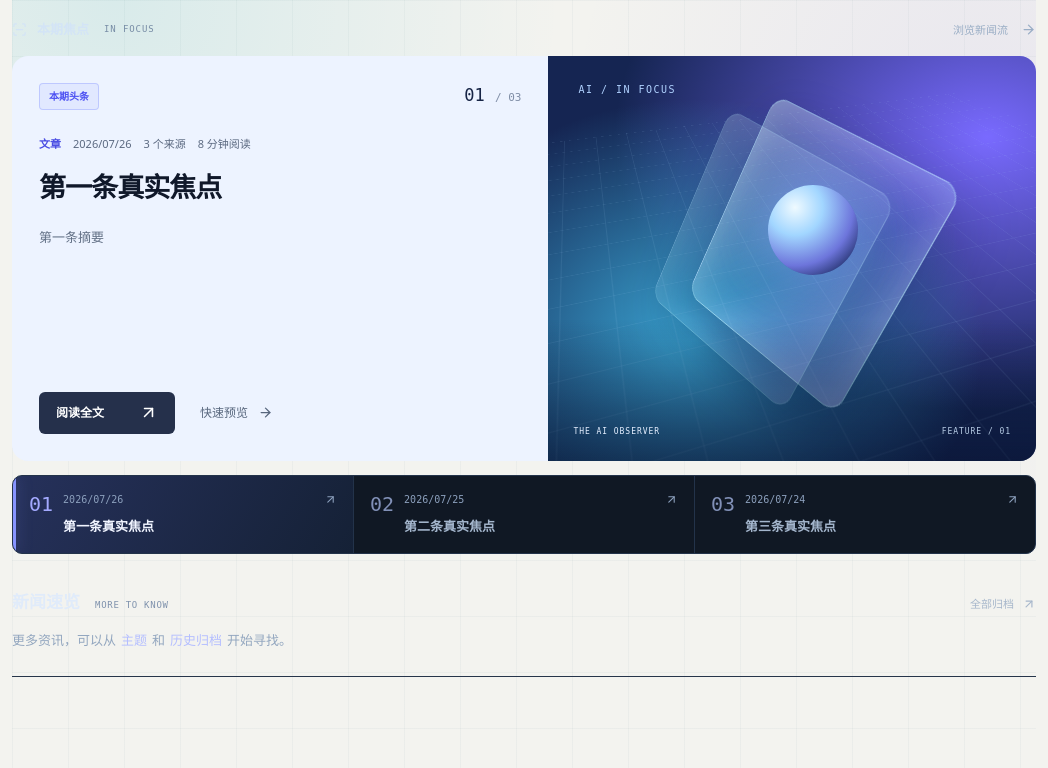
Test: keeps the headline readable after cover failure and can switch to a story without a cover
Expected: the element with class "tech-feature__fallback" is shown, [548, 56, 1036, 460]
Expected: the heading "第一条真实焦点" is shown, [39, 168, 221, 205]
Click the button "03 2026/07/24 第三条真实焦点" at (775, 499), box [695, 476, 1035, 553]
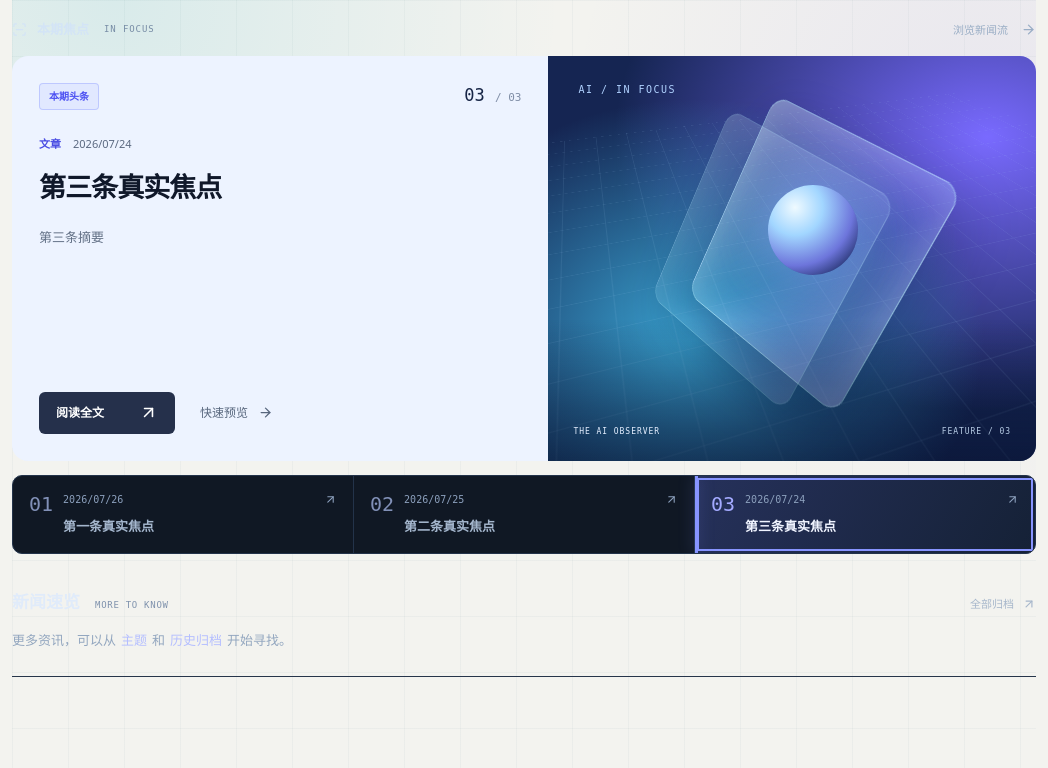
Expected: the heading "第三条真实焦点" is shown, [39, 168, 221, 205]
